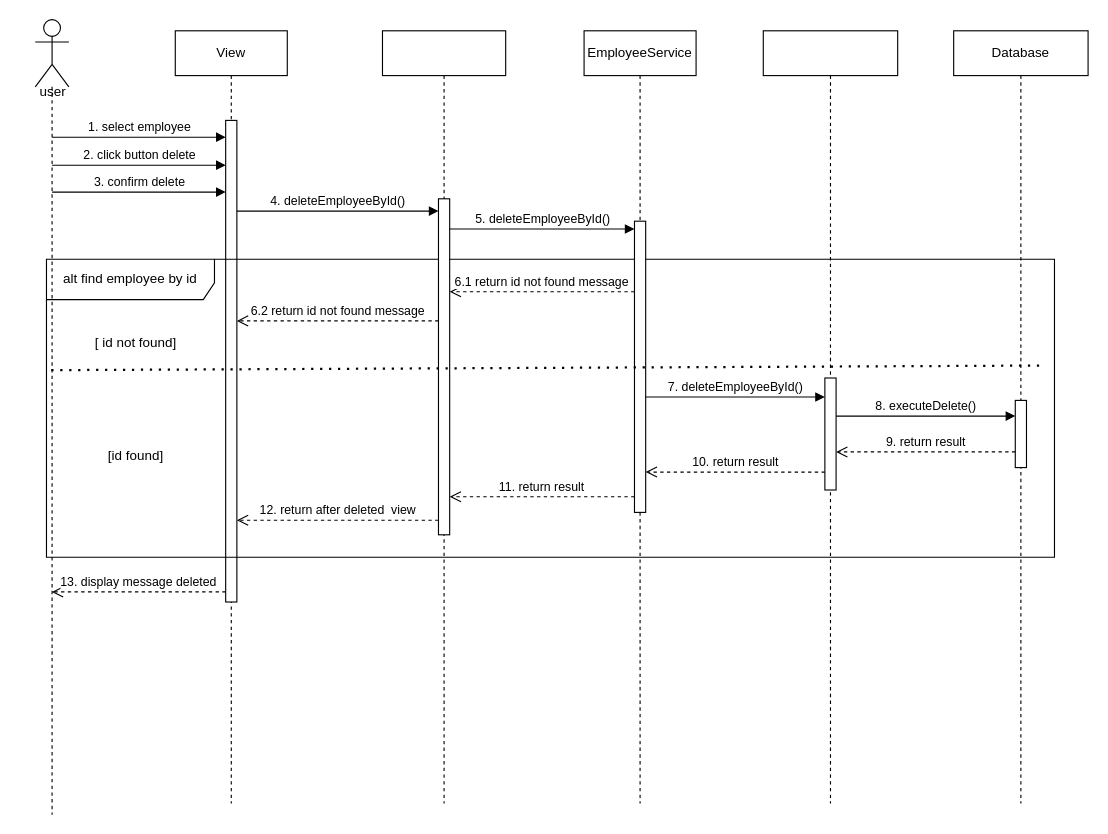
Image size: 1108x834. Some labels were removed from this diagram. The shapes that lost their labels are listed below. From the top down, each one's box as (x1, y1, x2, y2) in pixels, then its label:
(381, 30, 506, 804): EmployeeController
(762, 30, 898, 804): EmployeeRepository
